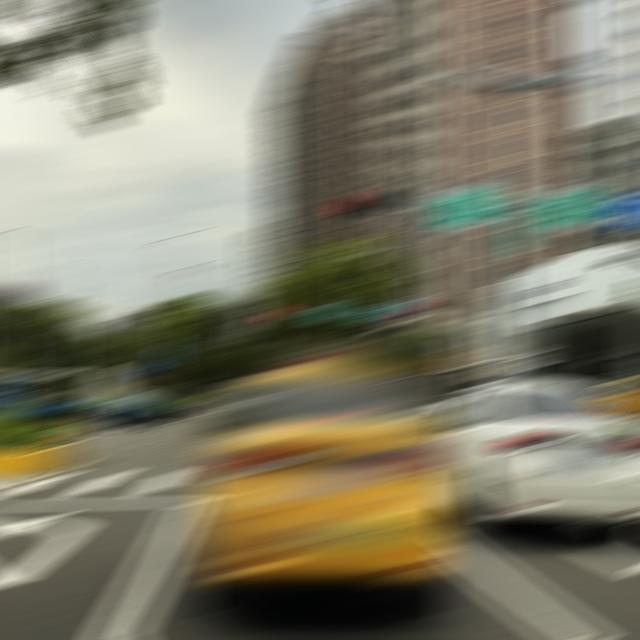Taxi: (198, 343, 452, 610)
